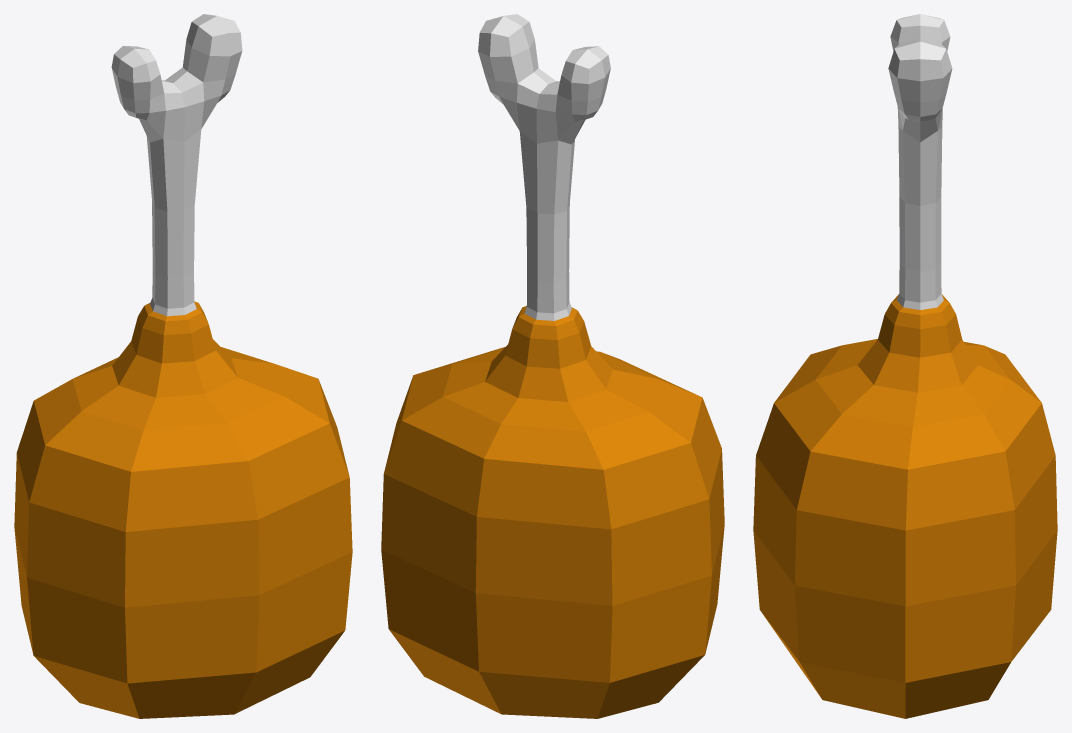
The model's file is LP chicken leg.fbx.
The picture shows the model from 3 angles, left to right: view 1: azimuth 30°, elevation 25°; view 2: azimuth 150°, elevation 25°; view 3: azimuth 270°, elevation 25°; orthographic projection.
Parts seen in each view (by area): view 1: Cube; view 2: Cube; view 3: Cube.
Part boxes in pixels (x1,y1,x2,y2): Cube: [14, 14, 352, 718]; Cube: [381, 14, 724, 718]; Cube: [753, 14, 1057, 718].
Bounding box in the file's own units: 367 × 748 × 309.
